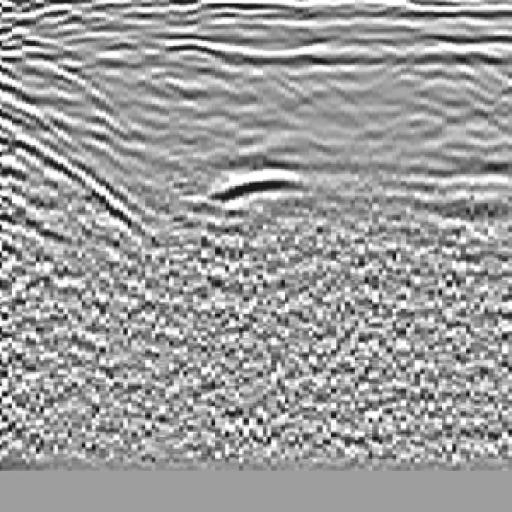metalic: (183, 134, 336, 260)
nonmetalic: (1, 38, 102, 248)
